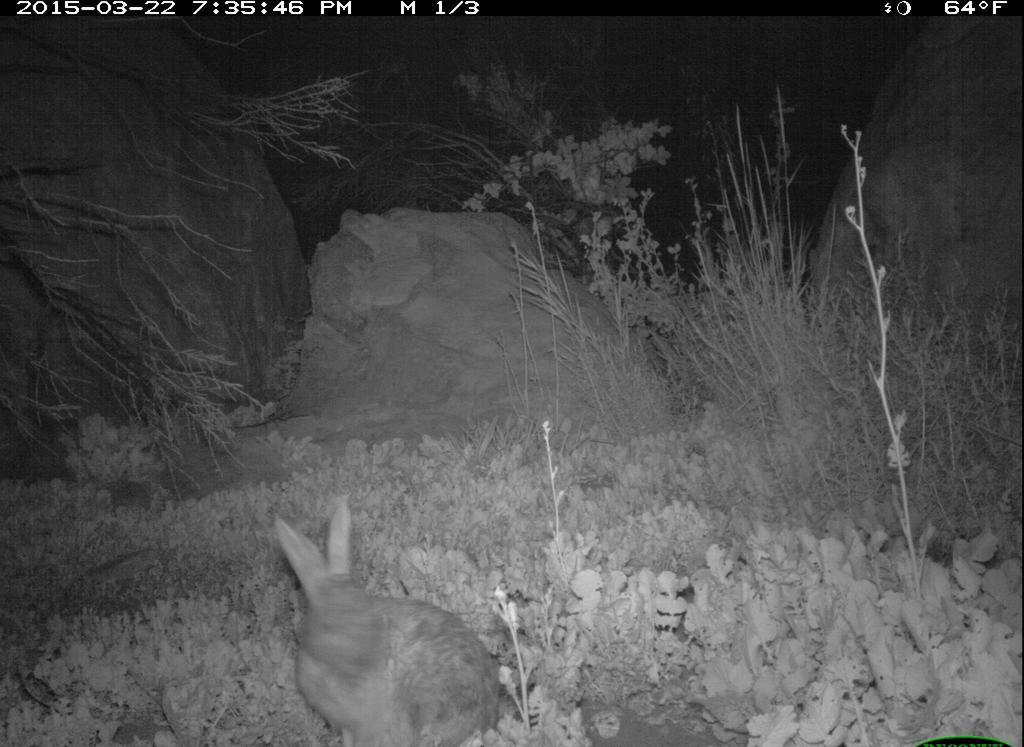rabbit: (267, 496, 502, 747)
